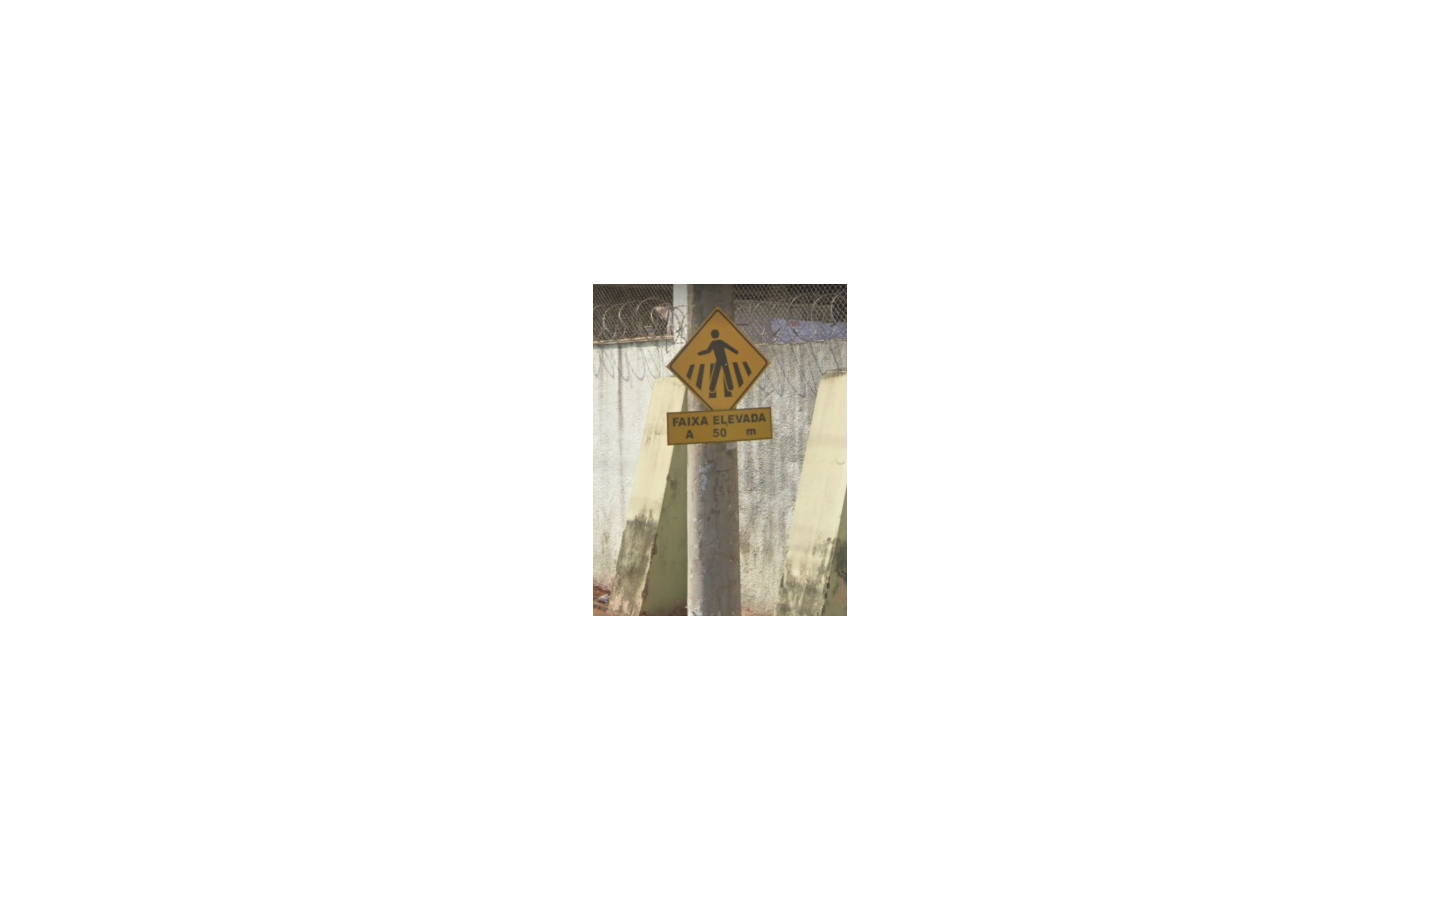t50m: (666, 307, 772, 445)
